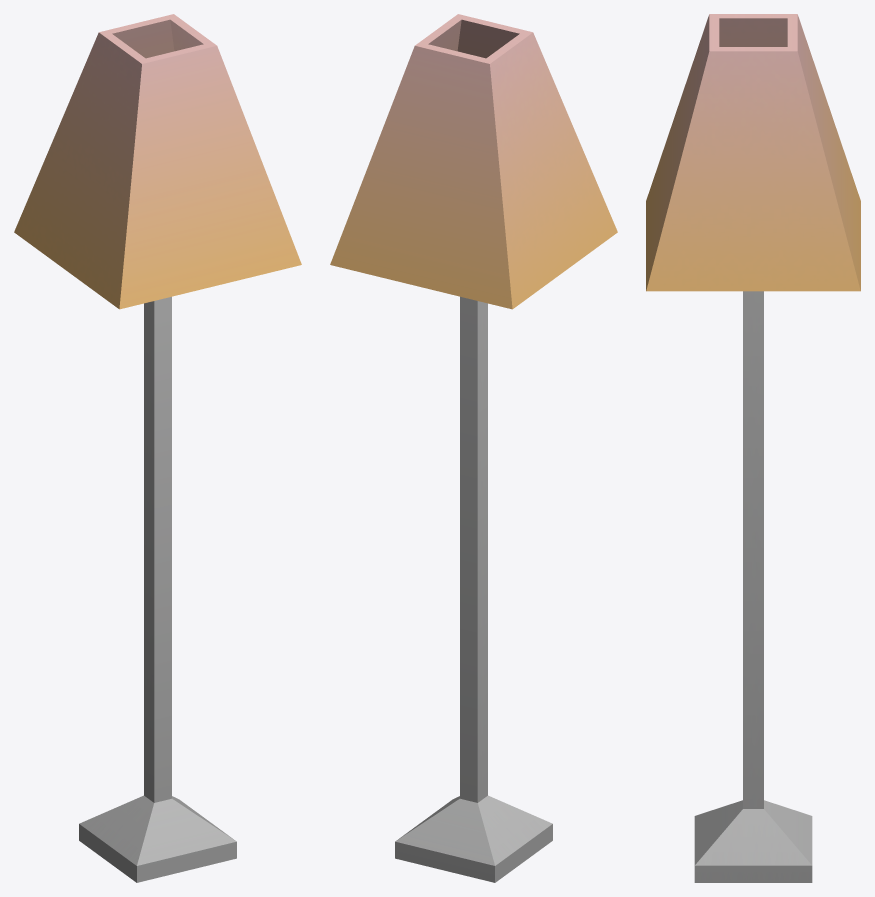
Rendered from Lamp.fbx.
The picture shows the model from 3 angles, left to right: view 1: azimuth 30°, elevation 25°; view 2: azimuth 150°, elevation 25°; view 3: azimuth 270°, elevation 25°; orthographic projection.
Visible parts, largest first — view 1: Lamp; view 2: Lamp; view 3: Lamp.
Boxes of the visible parts, x1,y1,x2,y2 form: Lamp: (14,14,301,882); Lamp: (330,14,617,882); Lamp: (646,14,860,882).
Size of the model in its own units: 0.5626 by 2.39 by 0.5626.
